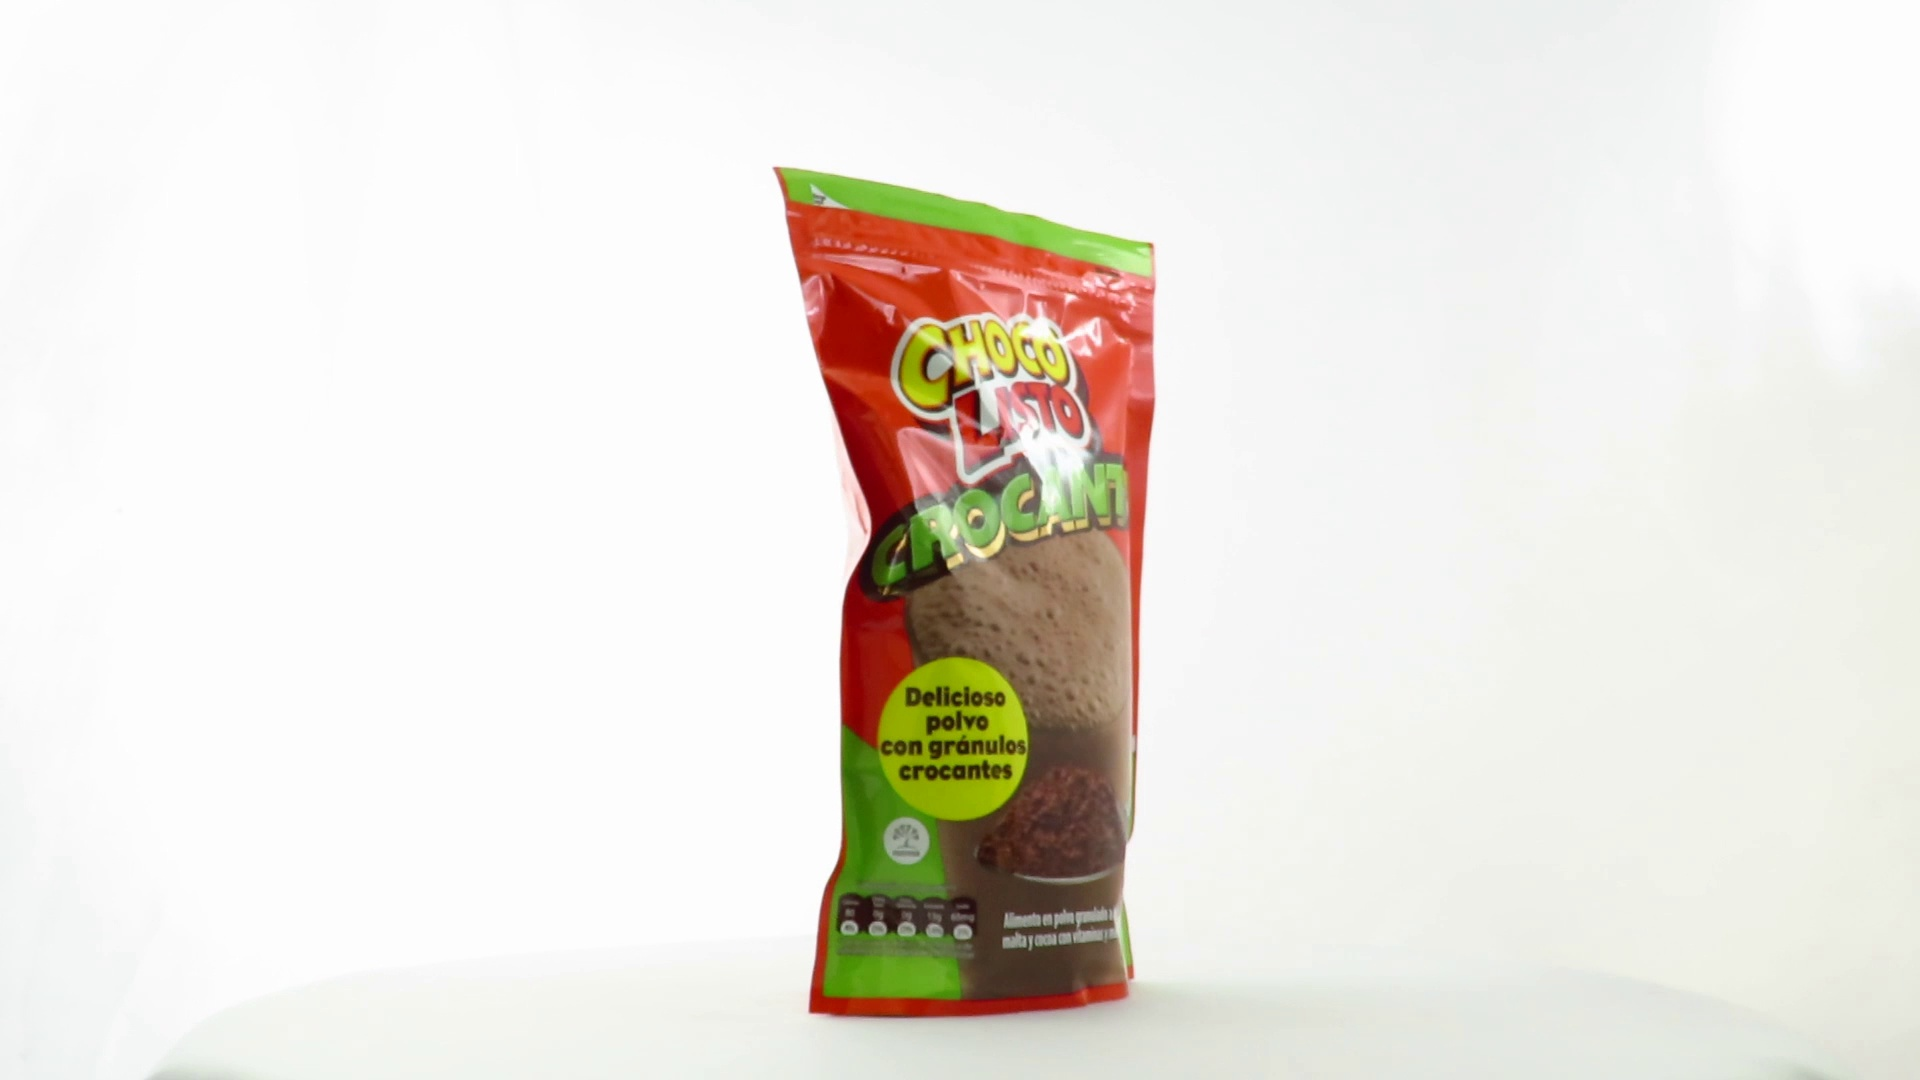COL0170102DYP50000: (767, 162, 1162, 1025)
